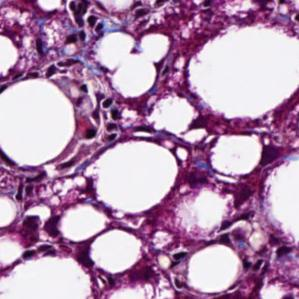inflammation: (73, 83, 128, 131)
